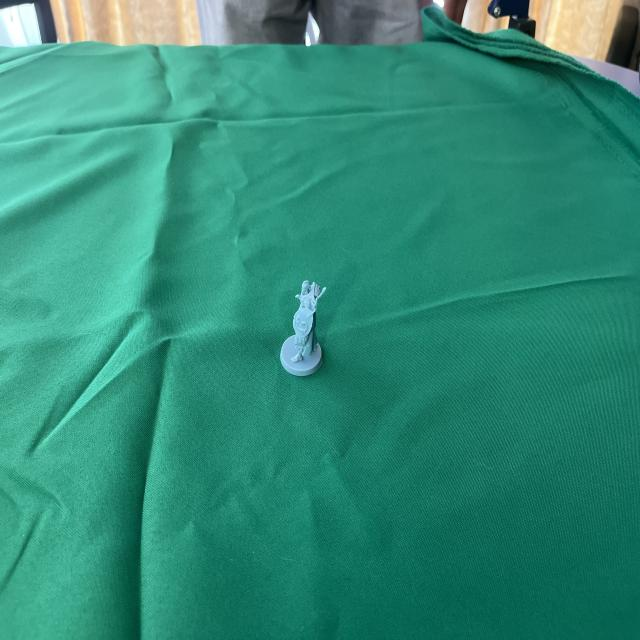isis_follower: (276, 271, 329, 380)
